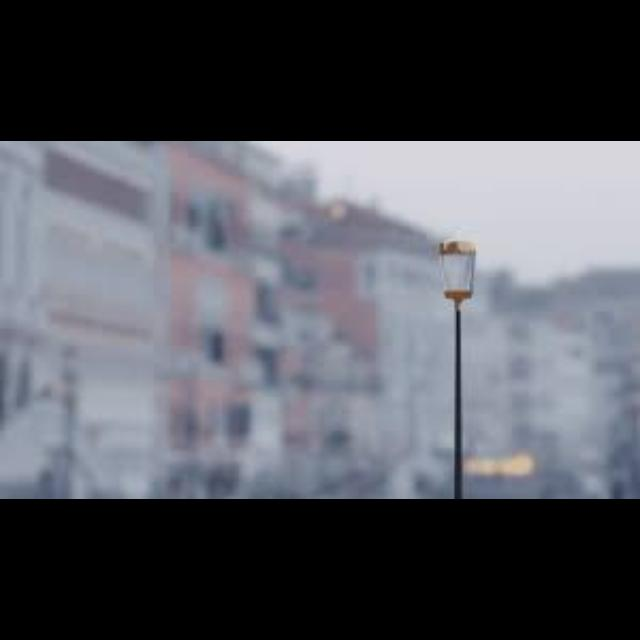Street-Lamp: (435, 222, 475, 500)
